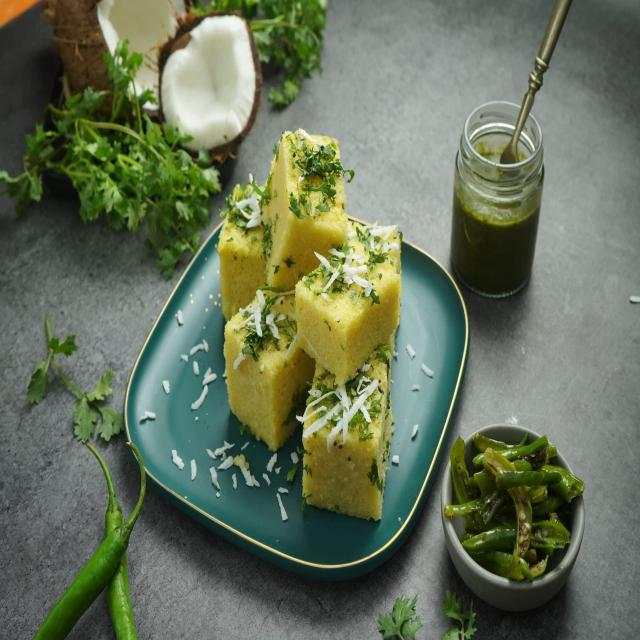dhokla: (222, 127, 398, 519)
